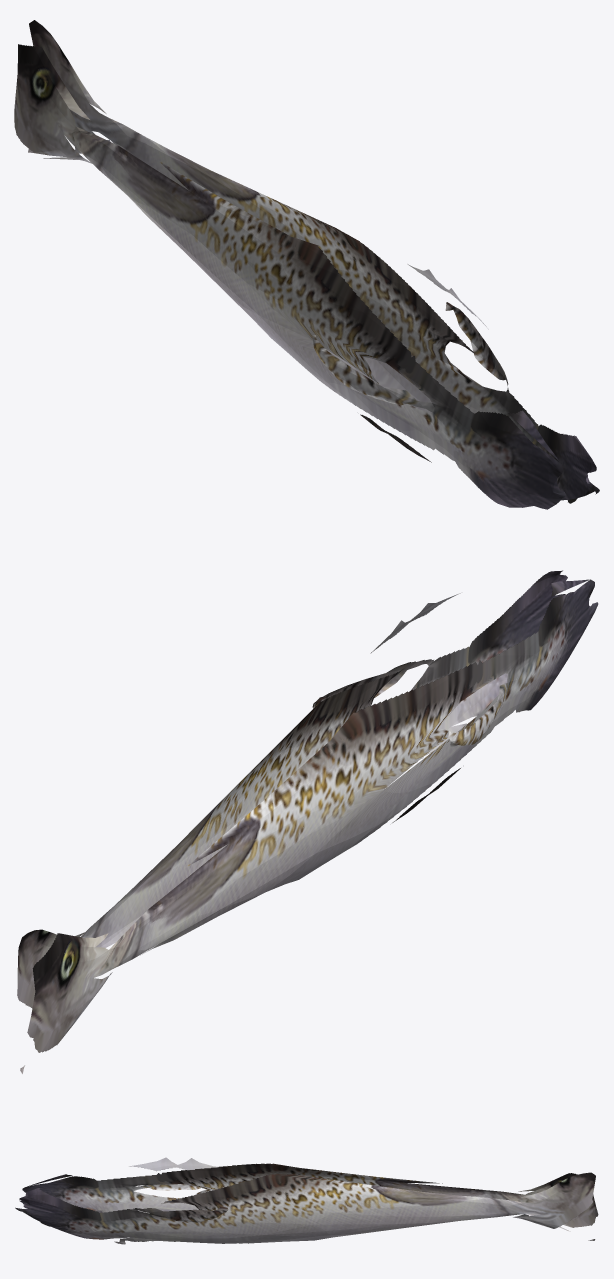
File: Alaska_Pollock.obj
The picture shows the model from 3 angles, top to bottom: view 1: azimuth 30°, elevation 25°; view 2: azimuth 150°, elevation 25°; view 3: azimuth 270°, elevation 25°; orthographic projection. The views are drawn at different scales.
Parts seen in each view (by area): view 1: Base_Texture.001; view 2: Base_Texture.001; view 3: Base_Texture.001.
Part boxes in pixels (<box>): Base_Texture.001: <box>14,20,599,509</box>; Base_Texture.001: <box>17,570,598,1073</box>; Base_Texture.001: <box>15,1157,598,1244</box>.
Bounding box in the file's own units: 0.9244 × 1.89 × 6.29.
Materials: 1 (1 with a texture image).
